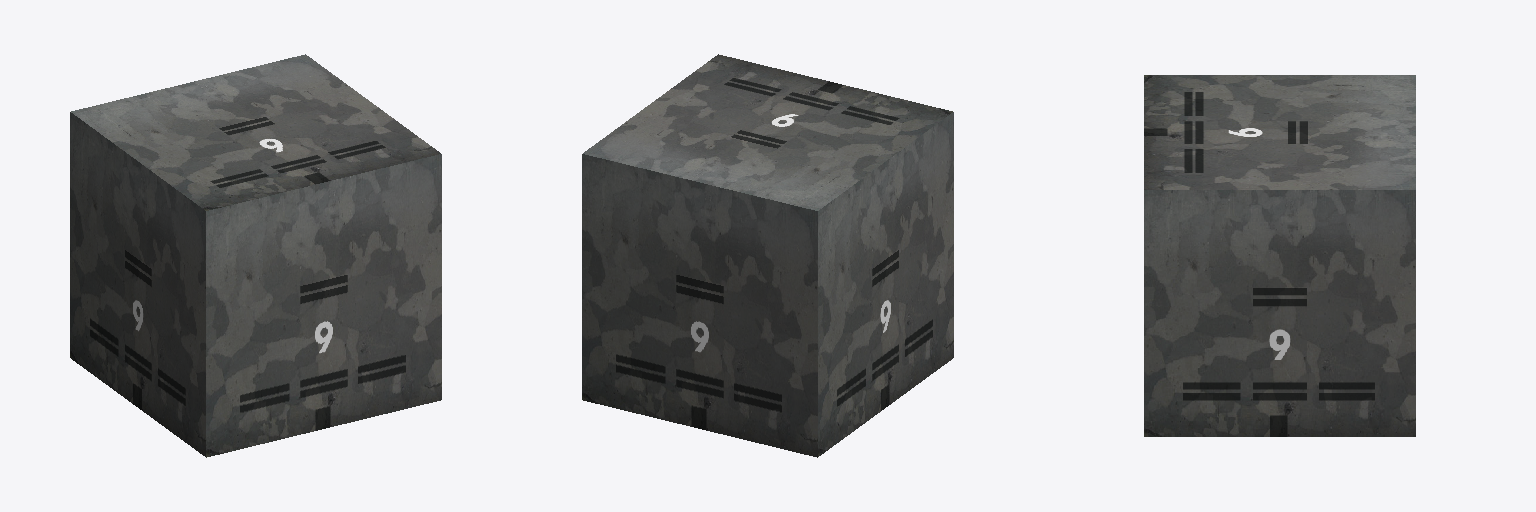
3 renders of one model, left to right at view 1: azimuth 30°, elevation 25°; view 2: azimuth 150°, elevation 25°; view 3: azimuth 270°, elevation 25°, orthographic.
Parts seen in each view (by area): view 1: cube1; view 2: cube1; view 3: cube1.
Part boxes in pixels (left/top/right/bottom): cube1: left=70, top=54, right=441, bottom=457; cube1: left=582, top=54, right=953, bottom=457; cube1: left=1144, top=75, right=1415, bottom=436.
Bounding box in the file's own units: 1 × 1 × 1.
1 materials, 1 textured.